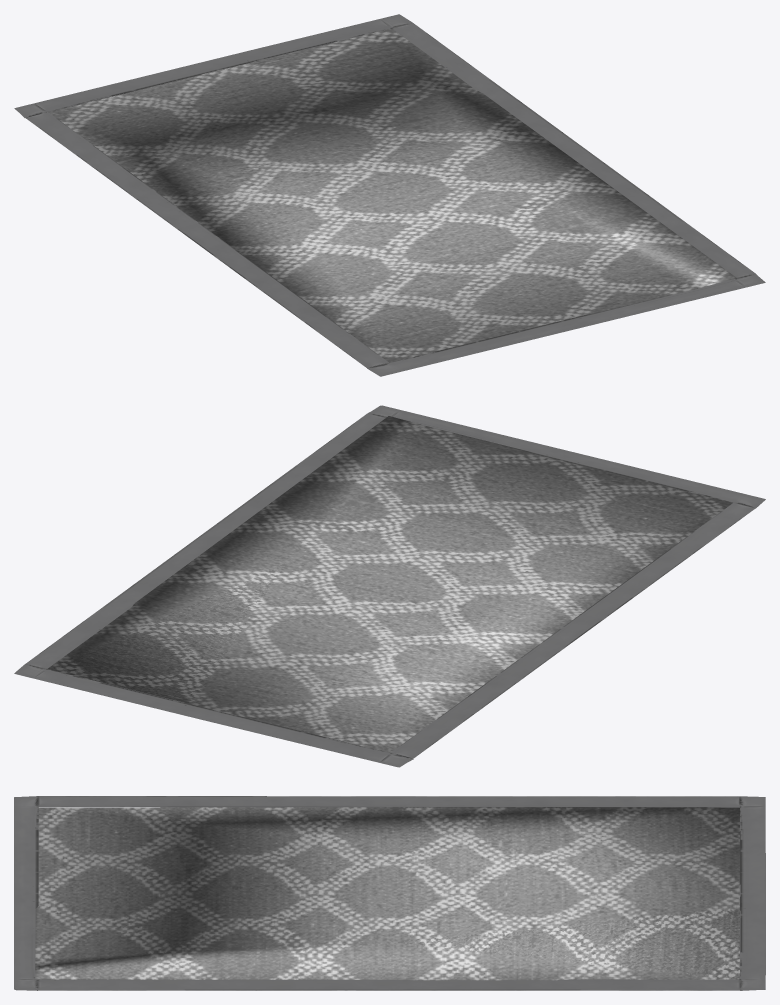
3 renders of one model, top to bottom at view 1: azimuth 30°, elevation 25°; view 2: azimuth 150°, elevation 25°; view 3: azimuth 270°, elevation 25°, orthographic. The views are drawn at different scales.
Parts seen in each view (by area): view 1: Mesh_0.015, Mesh_1.012; view 2: Mesh_0.015, Mesh_1.012; view 3: Mesh_0.015, Mesh_1.012.
Part boxes in pixels (<box>): Mesh_0.015: <box>49,28,736,362</box>; Mesh_1.012: <box>14,14,765,376</box>; Mesh_0.015: <box>47,416,732,752</box>; Mesh_1.012: <box>14,405,765,767</box>; Mesh_0.015: <box>35,807,739,980</box>; Mesh_1.012: <box>14,796,765,990</box>.
Size of the model in its own units: 4.07 by 0.0566 by 6.64.
2 materials, 2 textured.
